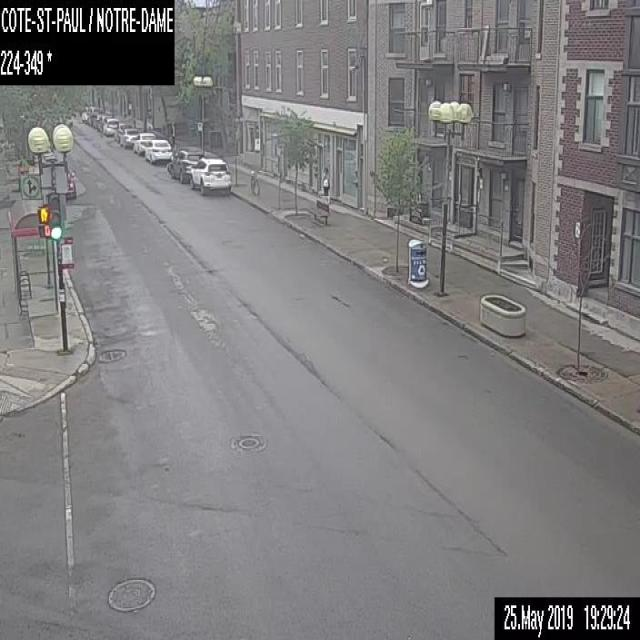pedestrian: (321, 167, 330, 196)
vehicle: (189, 156, 231, 195), (169, 149, 203, 182), (144, 138, 171, 164), (132, 132, 155, 153), (113, 121, 132, 142), (119, 128, 138, 148), (66, 170, 76, 198), (103, 117, 118, 135), (96, 115, 109, 131)
